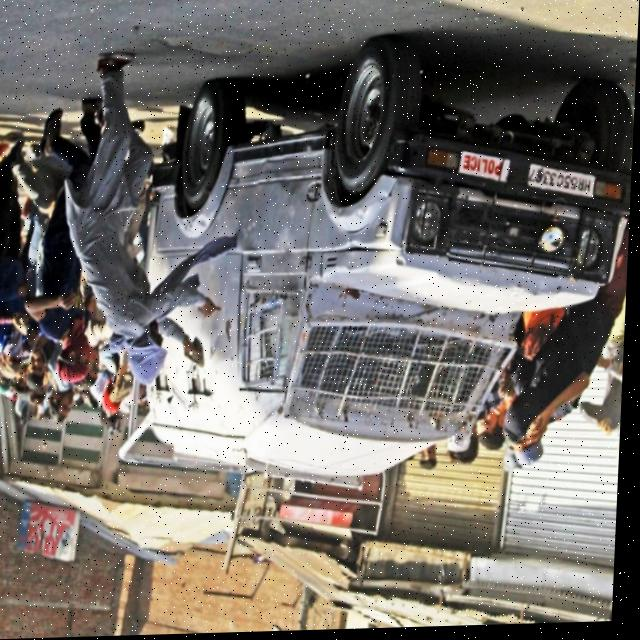plate: (525, 161, 602, 206)
